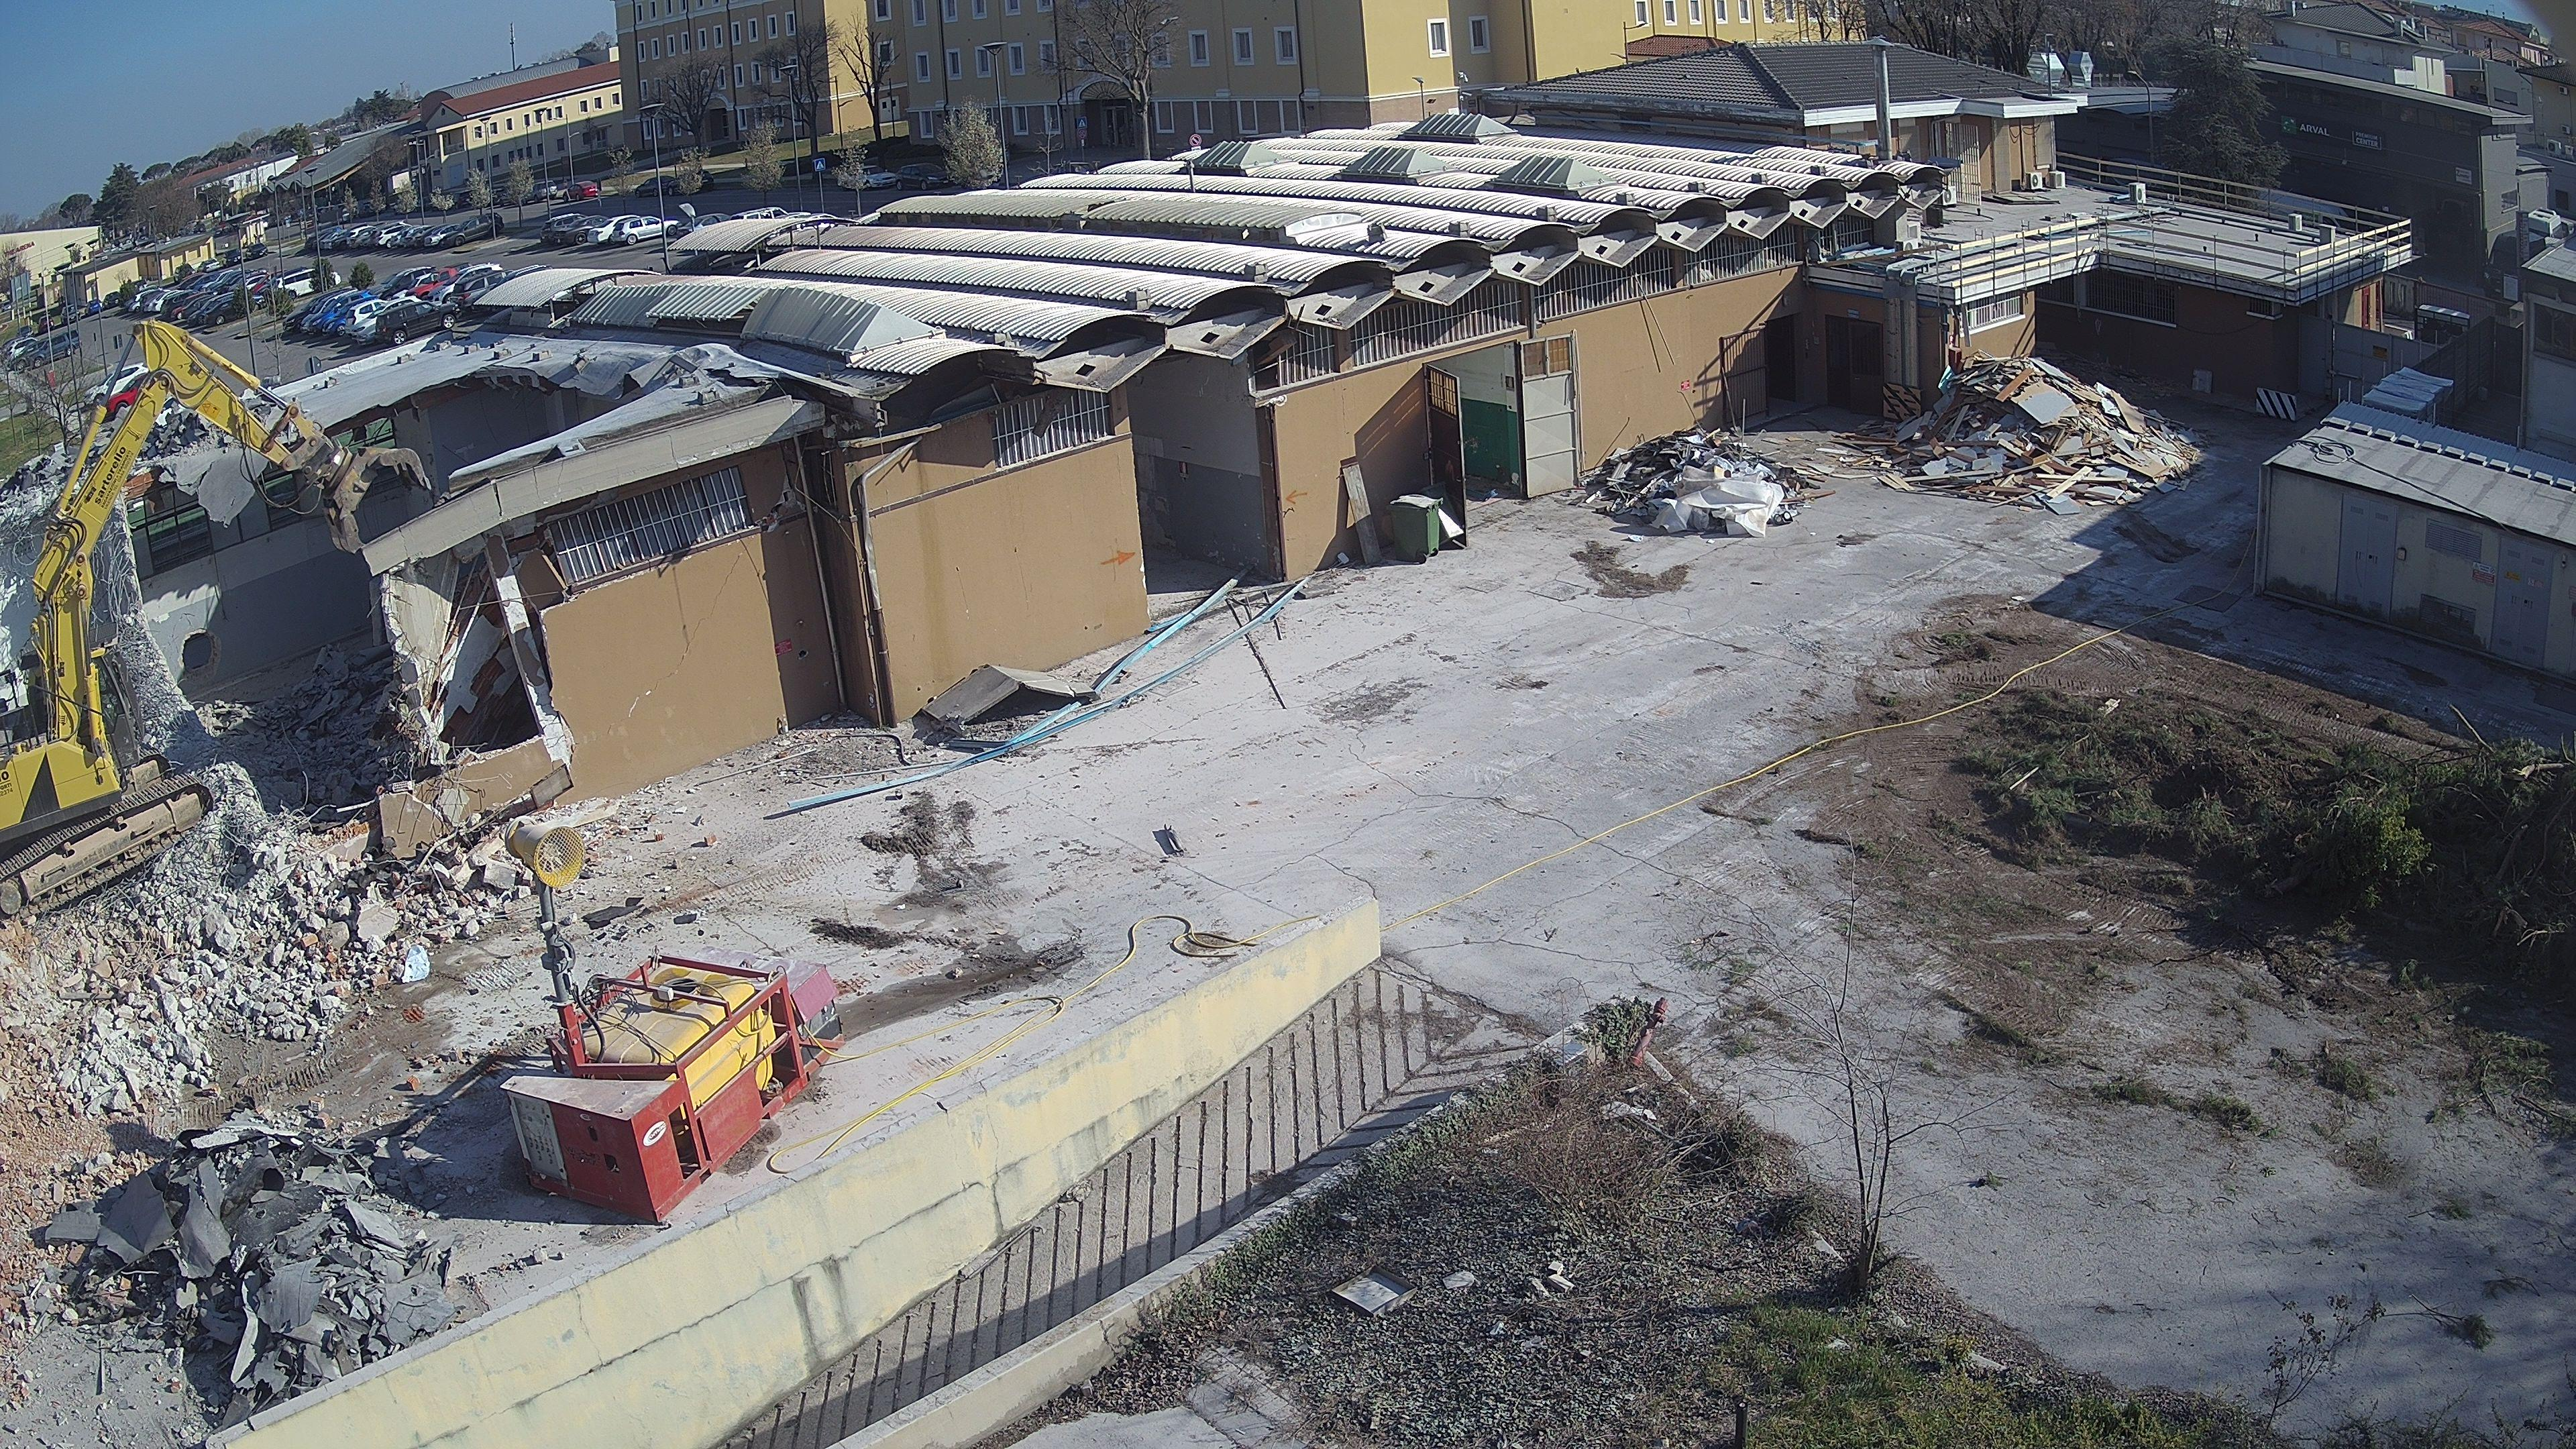Cars: (375, 301, 461, 345), (440, 213, 504, 248), (25, 328, 82, 367), (273, 266, 340, 299), (610, 216, 682, 245), (201, 295, 264, 323), (553, 215, 609, 246), (895, 163, 953, 191), (586, 215, 640, 245), (675, 213, 731, 242), (837, 165, 897, 190), (540, 213, 588, 244), (635, 175, 676, 197), (524, 179, 557, 204), (562, 181, 598, 201), (60, 305, 81, 325), (218, 248, 242, 266), (244, 243, 268, 261), (172, 263, 194, 283), (104, 291, 125, 309), (198, 259, 221, 272), (38, 315, 56, 332), (85, 299, 103, 315)
excavator: (0, 319, 431, 928)
